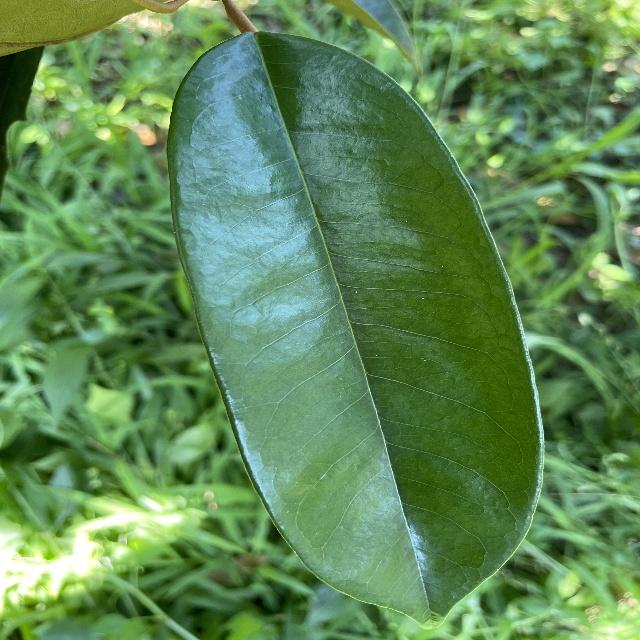No Disease: (159, 25, 549, 640)
